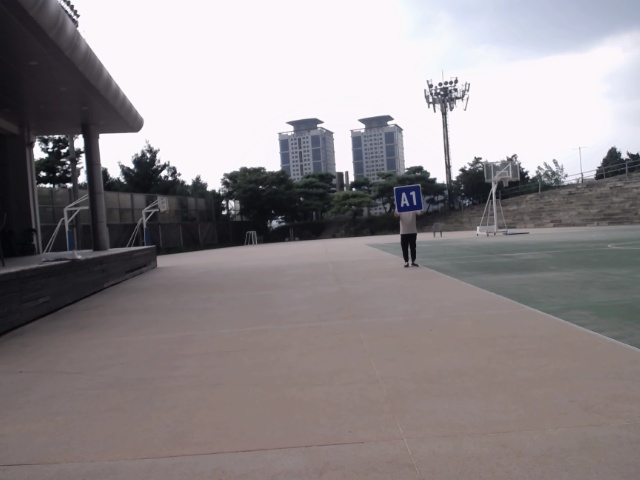delivery_a1: (394, 185, 422, 213)
